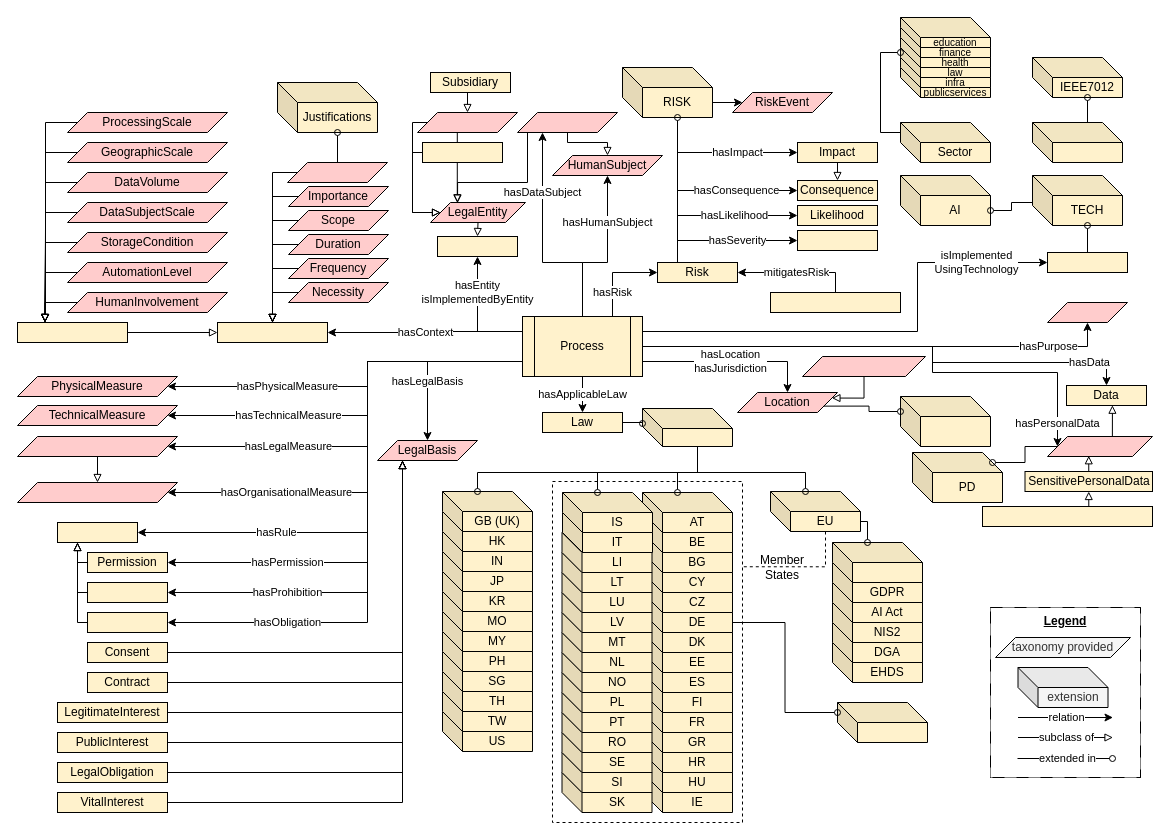
This 1170x840 diagram has some shape labels left out. Here are the shapes that lost their labels. From the top down, the centre of each, then its label:
At point (467, 122): "Organisation".
At point (567, 122): "DataSubject".
At point (1077, 142): "Standards".
At point (337, 172): "Justification".
At point (462, 152): "Authority".
At point (477, 246): "Entity".
At point (837, 240): "Severity".
At point (1087, 262): "Technology".
At point (835, 302): "RiskMitigationMeasure".
At point (1087, 312): "Purpose".
At point (72, 332): "ProcessingContext".
At point (272, 332): "Context".
At point (864, 366): "LocationLocality".
At point (687, 427): "LEGAL".
At point (945, 421): "LOC".
At point (97, 446): "LegalMeasure".
At point (1099, 446): "PersonalData".
At point (97, 492): "OrganisationalMeasure".
At point (97, 532): "Rule".
At point (1067, 516): "SpecialCategoryPersonalData".
At point (877, 562): "Rights".
At point (127, 592): "Prohibition".
At point (127, 622): "Obligation".
At point (882, 722): "GDNG".
